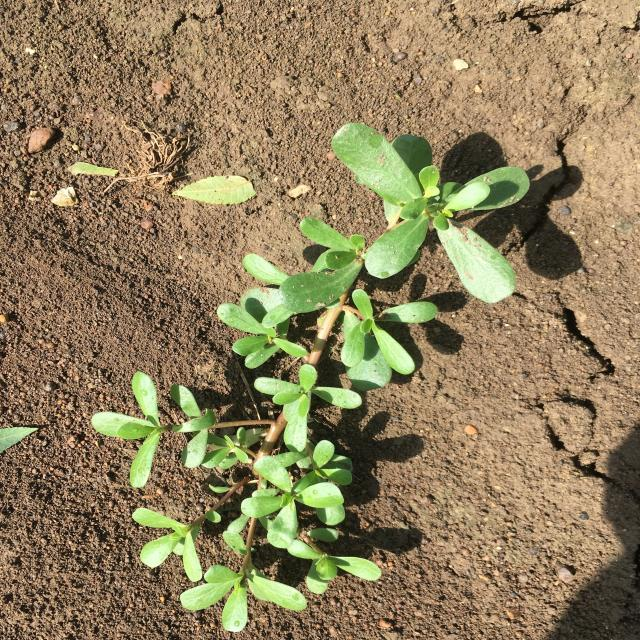Purslane: (91, 122, 530, 632)
